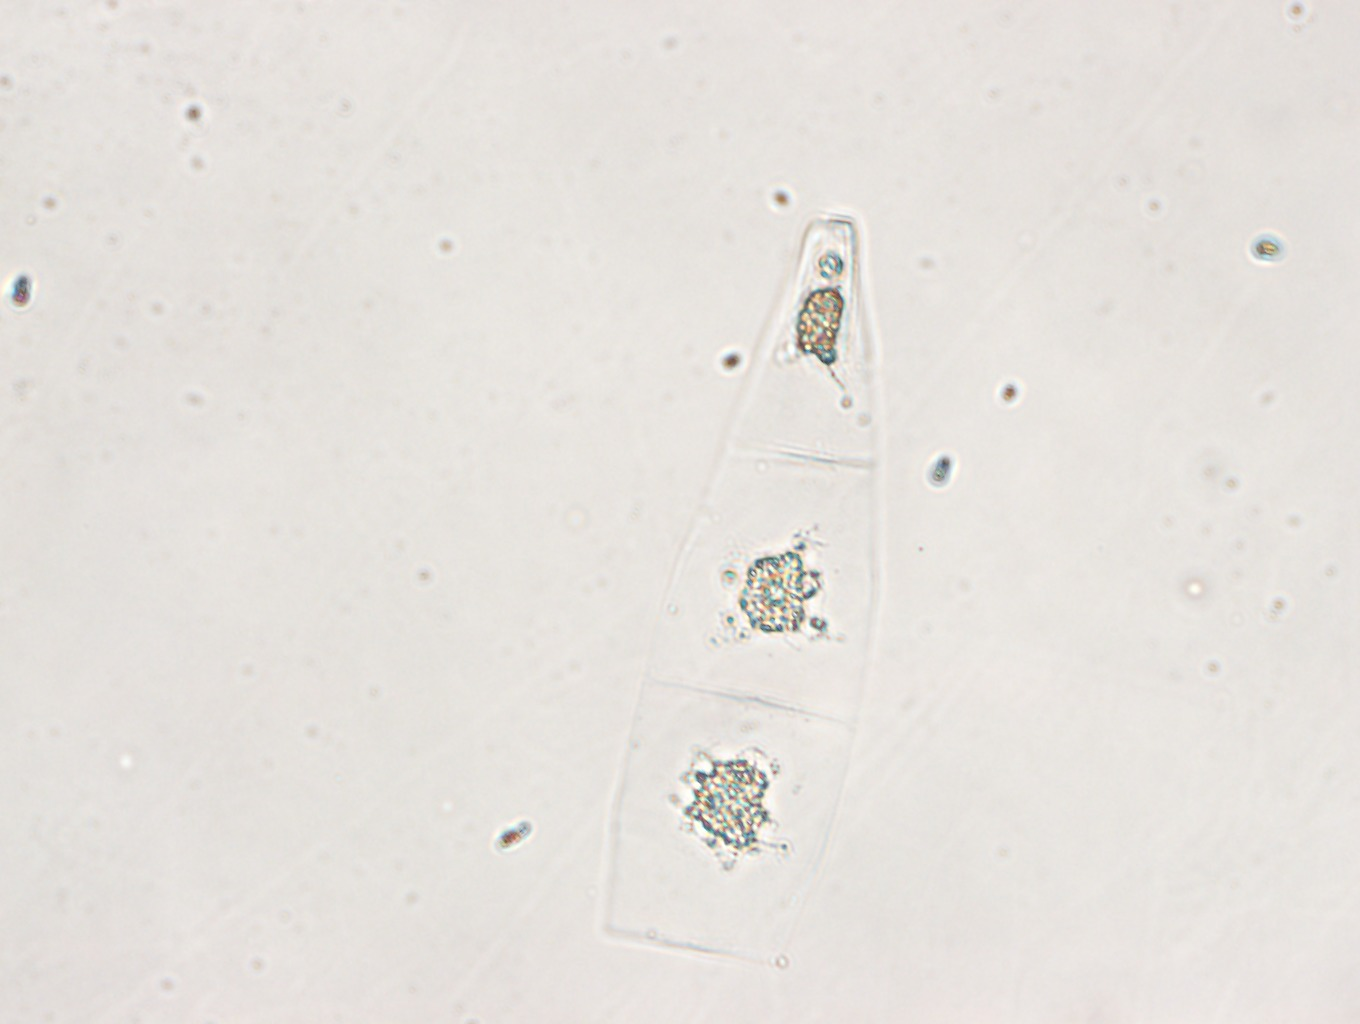helicotheca: (602, 208, 882, 977)
